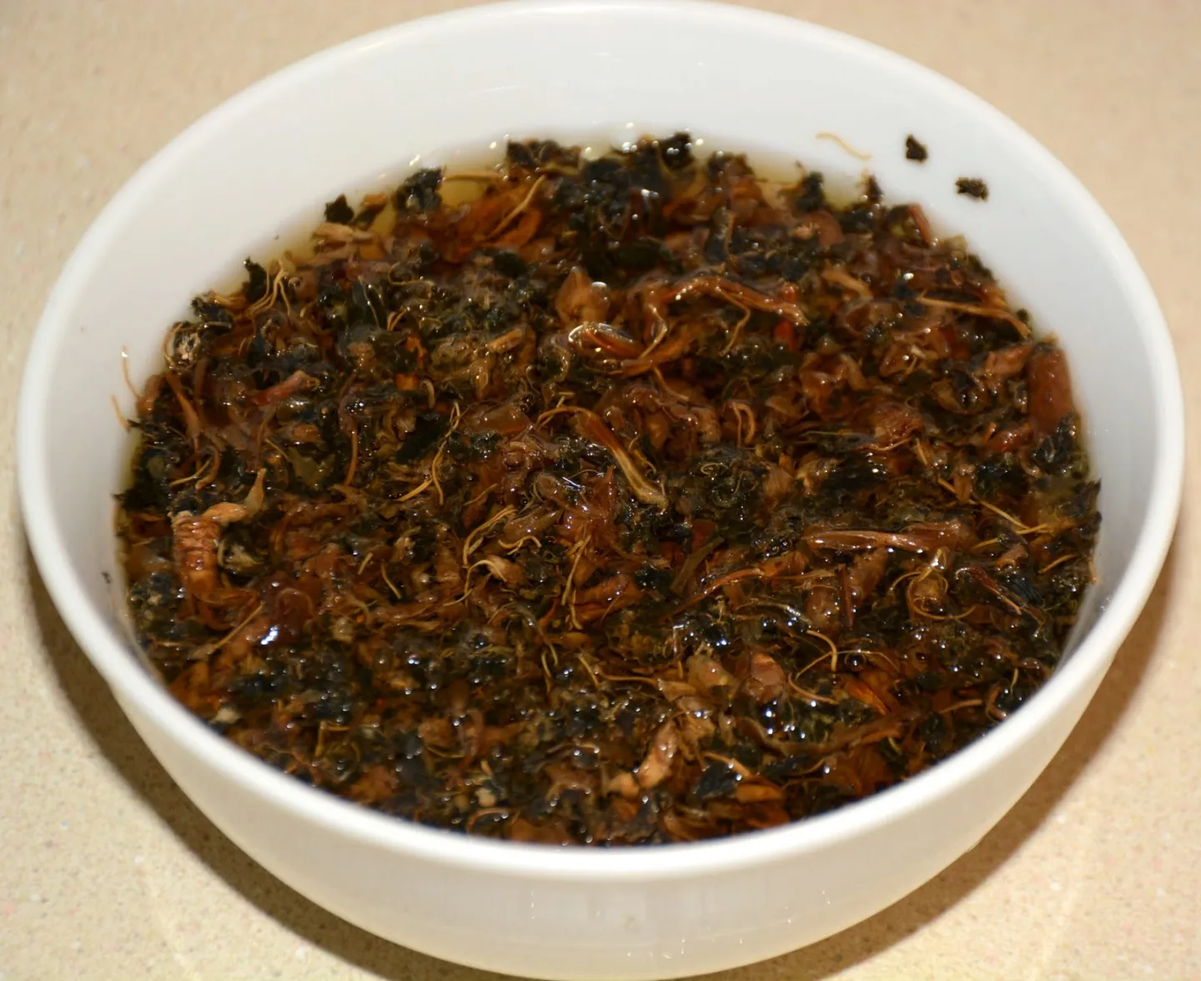gundruk: (192, 158, 1007, 774)
